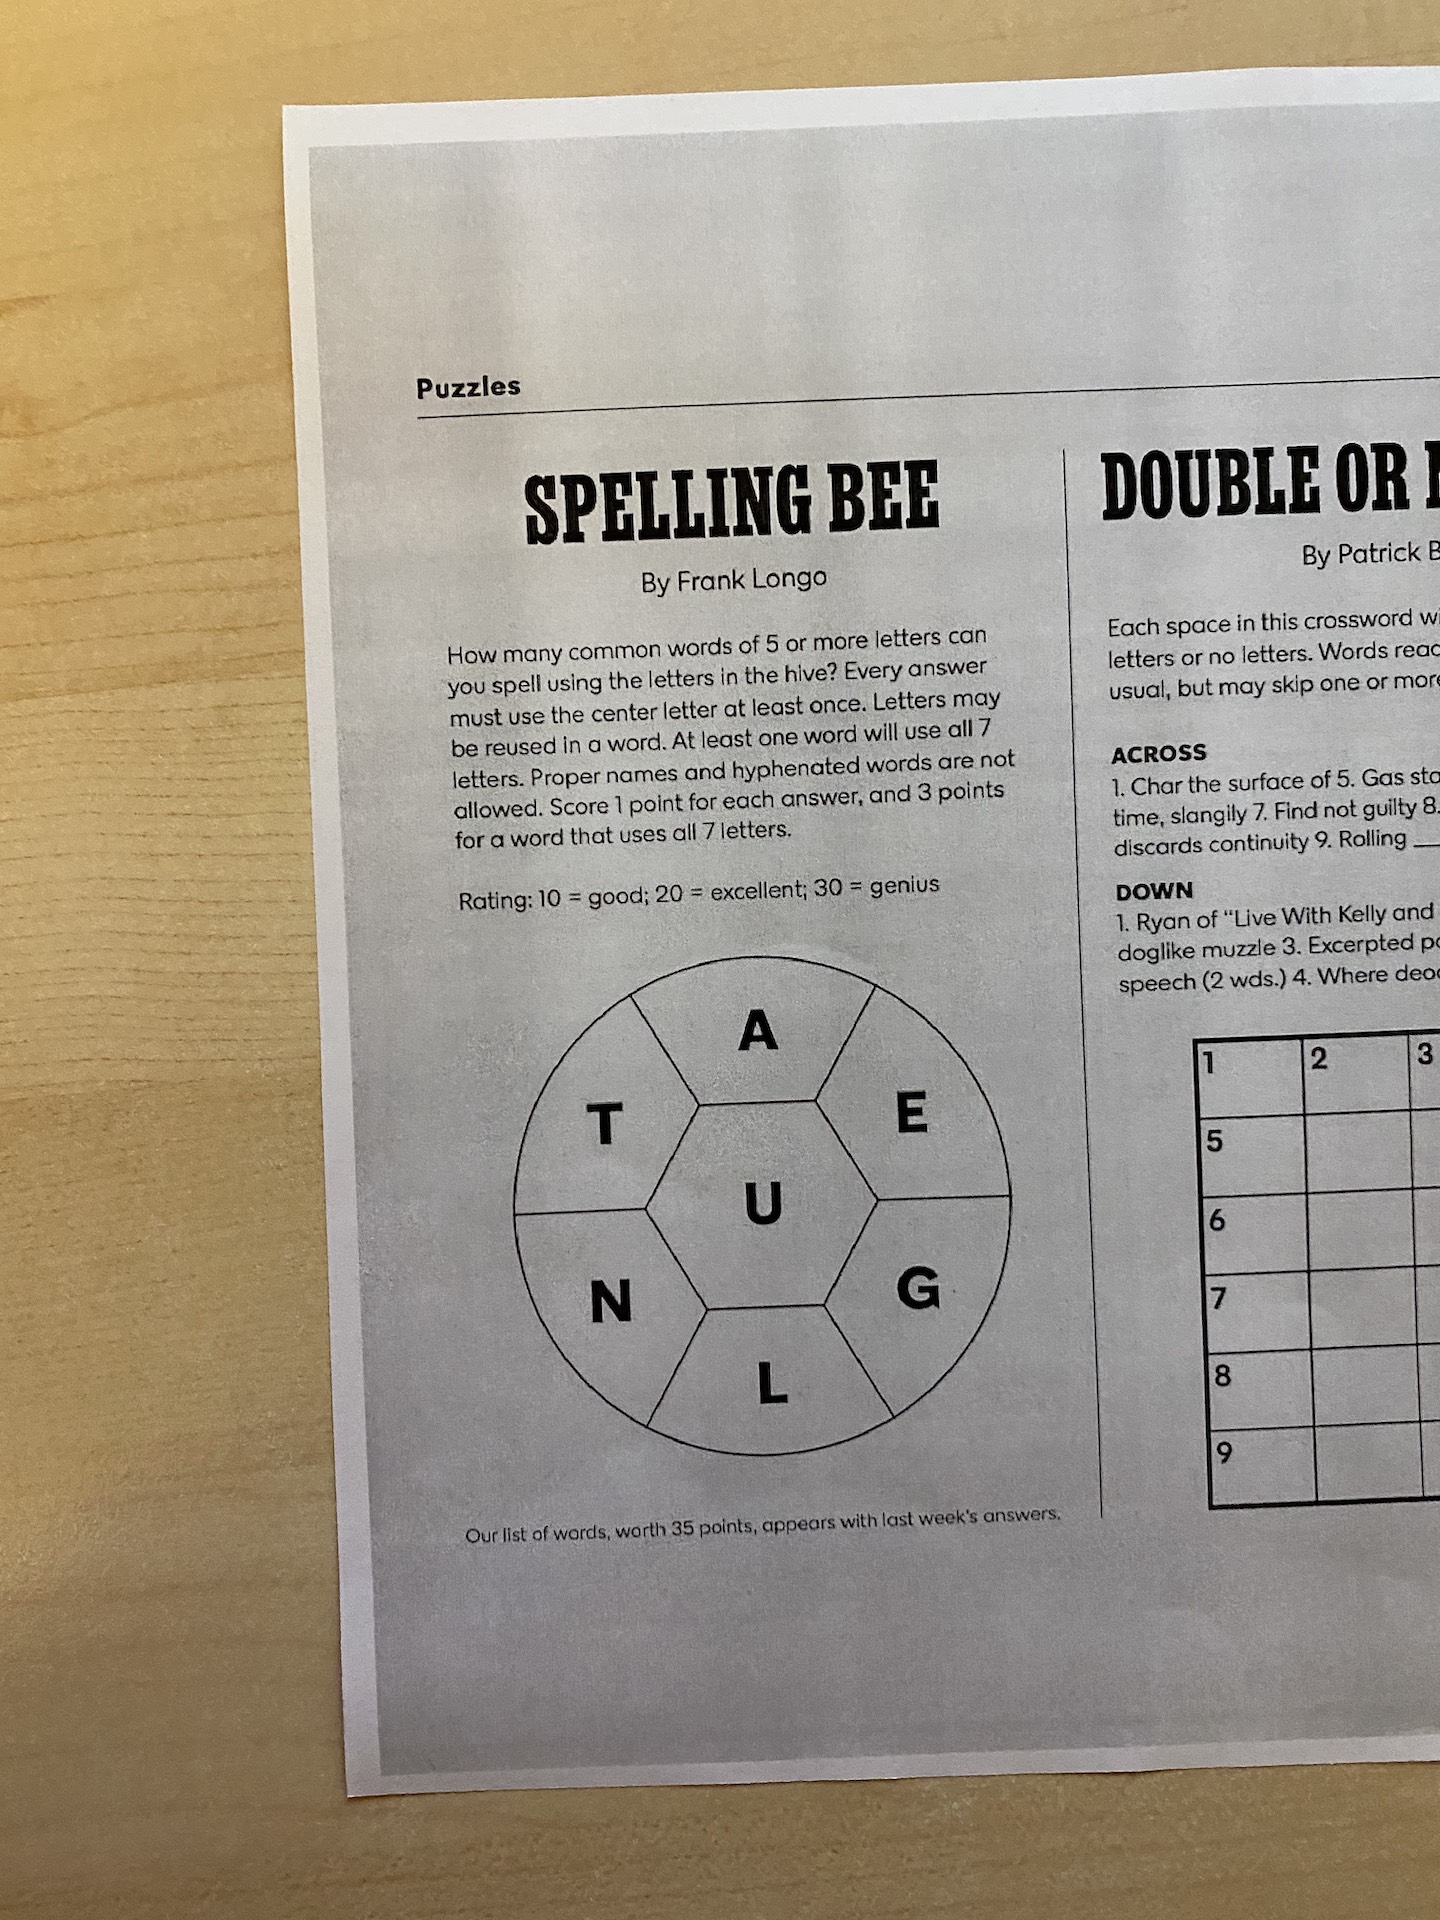Board: (498, 945, 1032, 1468)
